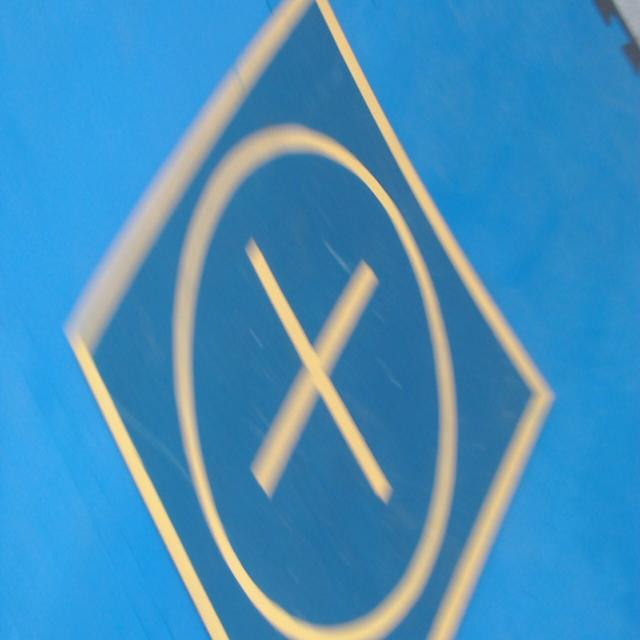base_pouso: (61, 0, 559, 639)
